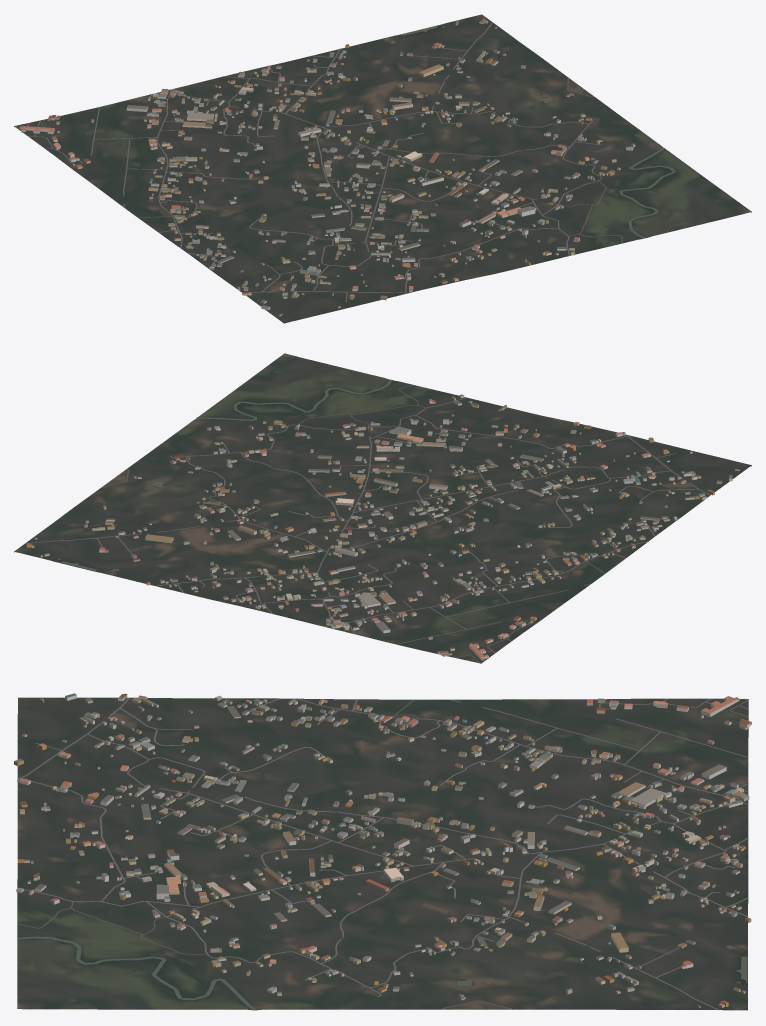
The picture shows the model from 3 angles, top to bottom: view 1: azimuth 30°, elevation 25°; view 2: azimuth 150°, elevation 25°; view 3: azimuth 270°, elevation 25°; orthographic projection. The views are drawn at different scales.
Visible parts, largest first — view 1: ground, buildings, roads, water; view 2: ground, buildings, roads, water; view 3: ground, buildings, roads, water.
Boxes of the visible parts, x1,y1,x2,y2 form: ground: (14,14,751,323); buildings: (19,18,635,316); roads: (15,22,622,302); water: (390,24,675,238); ground: (14,353,751,663); buildings: (26,394,739,660); roads: (24,385,710,663); water: (56,379,392,571); ground: (17,697,748,1010); buildings: (14,693,751,1008); roads: (17,697,748,1010); water: (17,936,747,1010).
Size of the model in its own units: 1410 by 19.72 by 1416.
